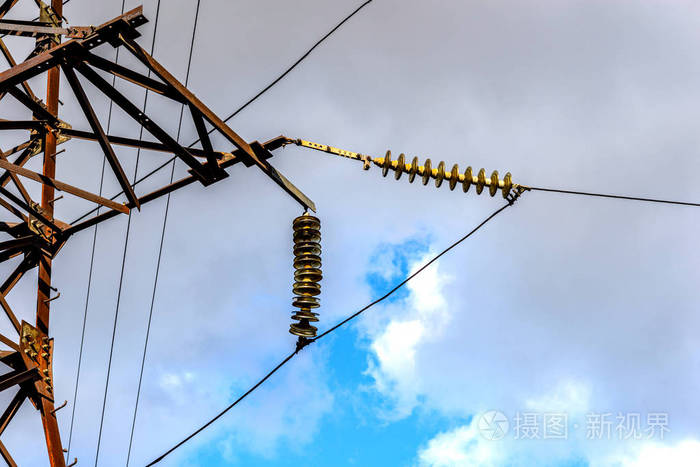insulator: (377, 148, 514, 202), (287, 213, 324, 344)
